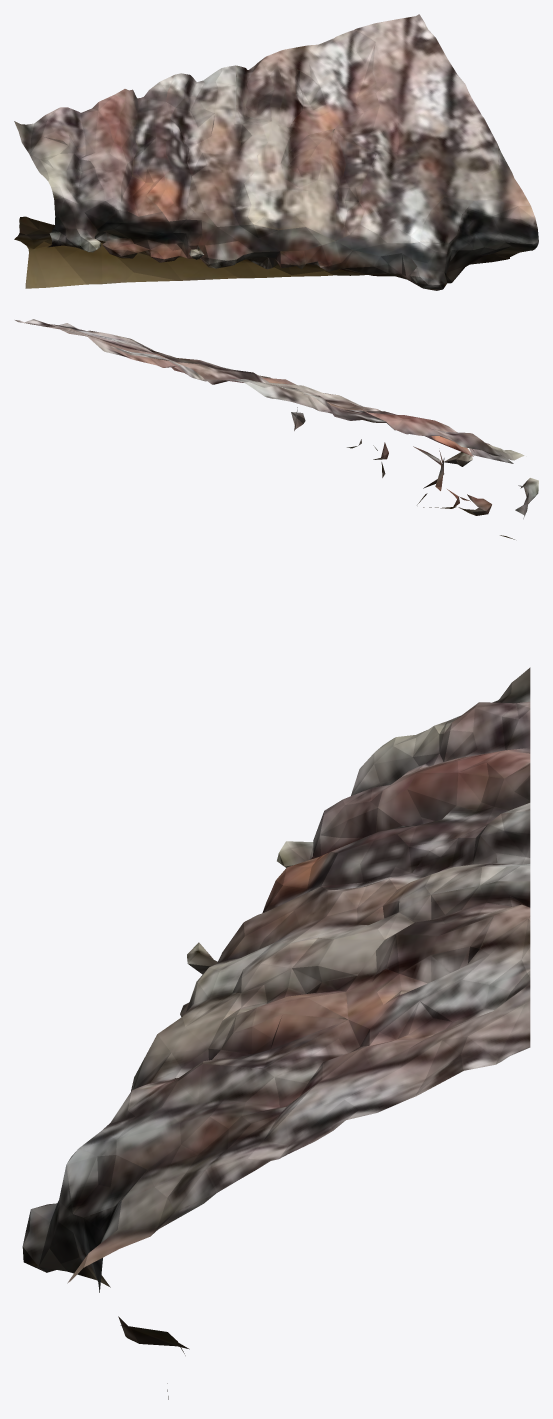
3 views of the same model, one above another, from view 1: azimuth 30°, elevation 25°; view 2: azimuth 150°, elevation 25°; view 3: azimuth 270°, elevation 25° (orthographic). The views are drawn at different scales.
Bounding box in the file's own units: 1.67 × 0.7114 × 0.908.
Materials: 2 (2 with a texture image).
